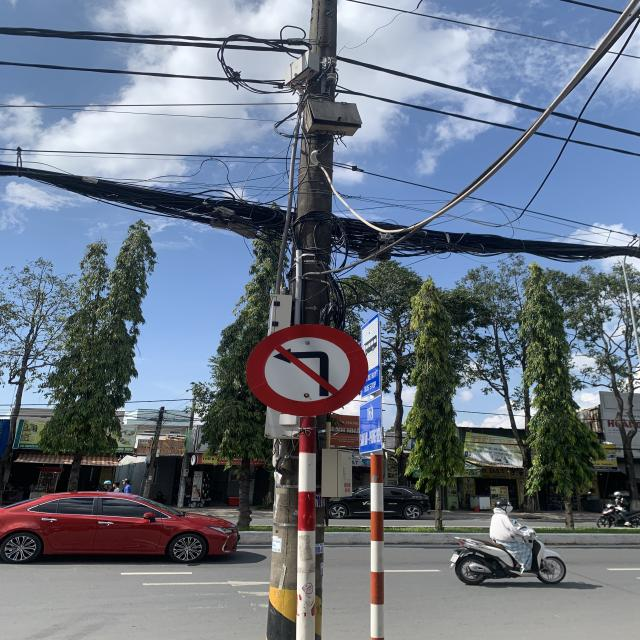Cam_Re_Trai: (244, 323, 368, 415)
